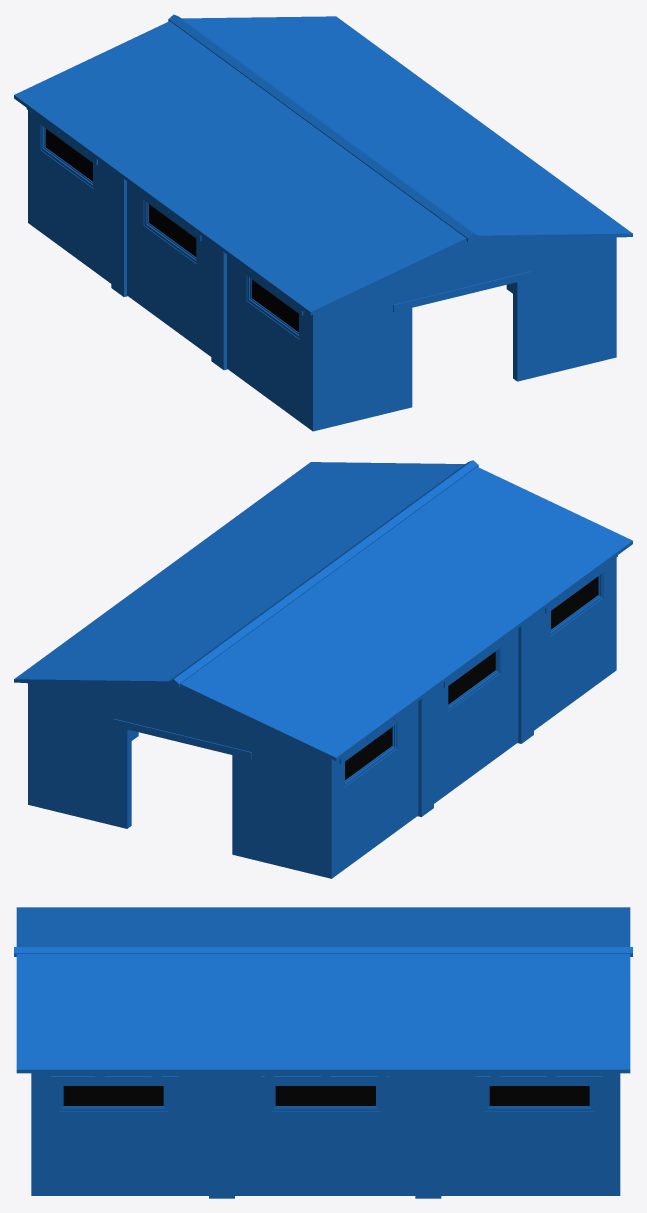
File: SM_Sideways_hangar.fbx
The picture shows the model from 3 angles, top to bottom: view 1: azimuth 30°, elevation 25°; view 2: azimuth 150°, elevation 25°; view 3: azimuth 270°, elevation 25°; orthographic projection. The views are drawn at different scales.
Visible parts, largest first — view 1: Cube_23; view 2: Cube_23; view 3: Cube_23.
Part boxes in pixels (bbox=[...]): Cube_23: bbox=[14, 14, 632, 431]; Cube_23: bbox=[14, 460, 632, 878]; Cube_23: bbox=[14, 907, 632, 1198].
Bounding box in the file's own units: 2043 × 1018 × 3289.
